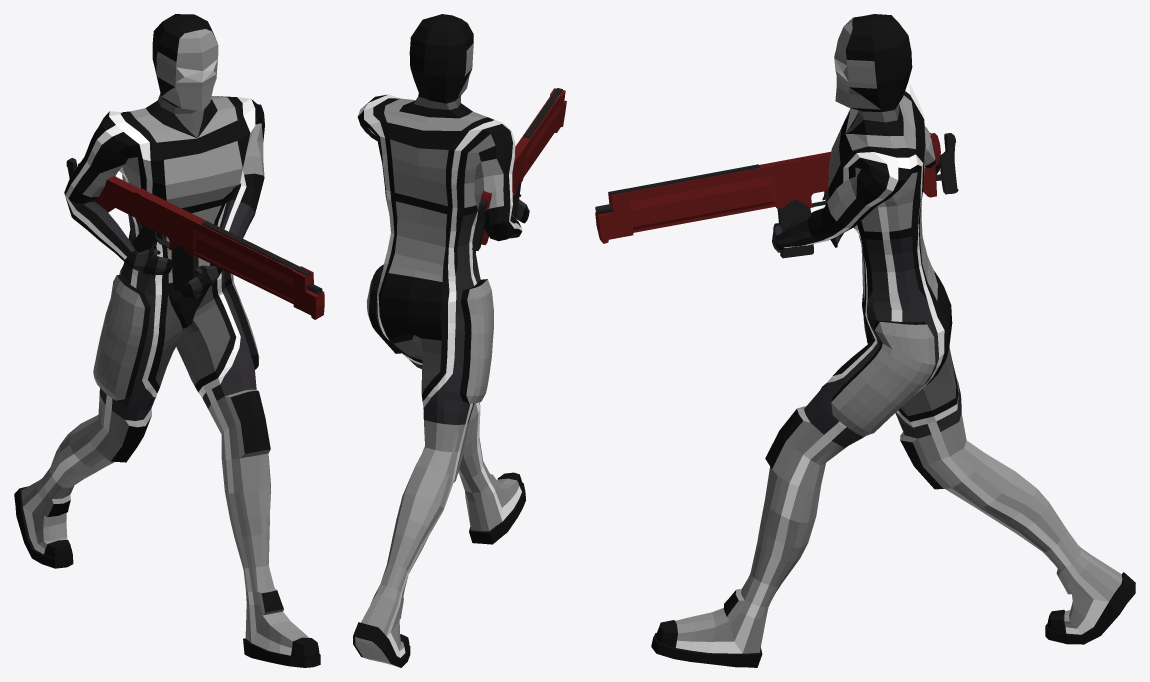
File: TKR7.obj
The picture shows the model from 3 angles, left to right: view 1: azimuth 30°, elevation 25°; view 2: azimuth 150°, elevation 25°; view 3: azimuth 270°, elevation 25°; orthographic projection. The views are drawn at different scales.
Parts seen in each view (by area): view 1: metarig_object_metarig_mesh, Cube.001; view 2: metarig_object_metarig_mesh, Cube.001; view 3: metarig_object_metarig_mesh, Cube.001.
Boxes of the visible parts, x1,y1,x2,y2 form: metarig_object_metarig_mesh: (14, 14, 320, 667); Cube.001: (66, 158, 324, 319); metarig_object_metarig_mesh: (353, 14, 529, 667); Cube.001: (472, 88, 566, 250); metarig_object_metarig_mesh: (651, 14, 1135, 667); Cube.001: (595, 132, 958, 258).
Bounding box in the file's own units: 0.5046 × 1.64 × 1.26.
2 materials, 2 textured.
